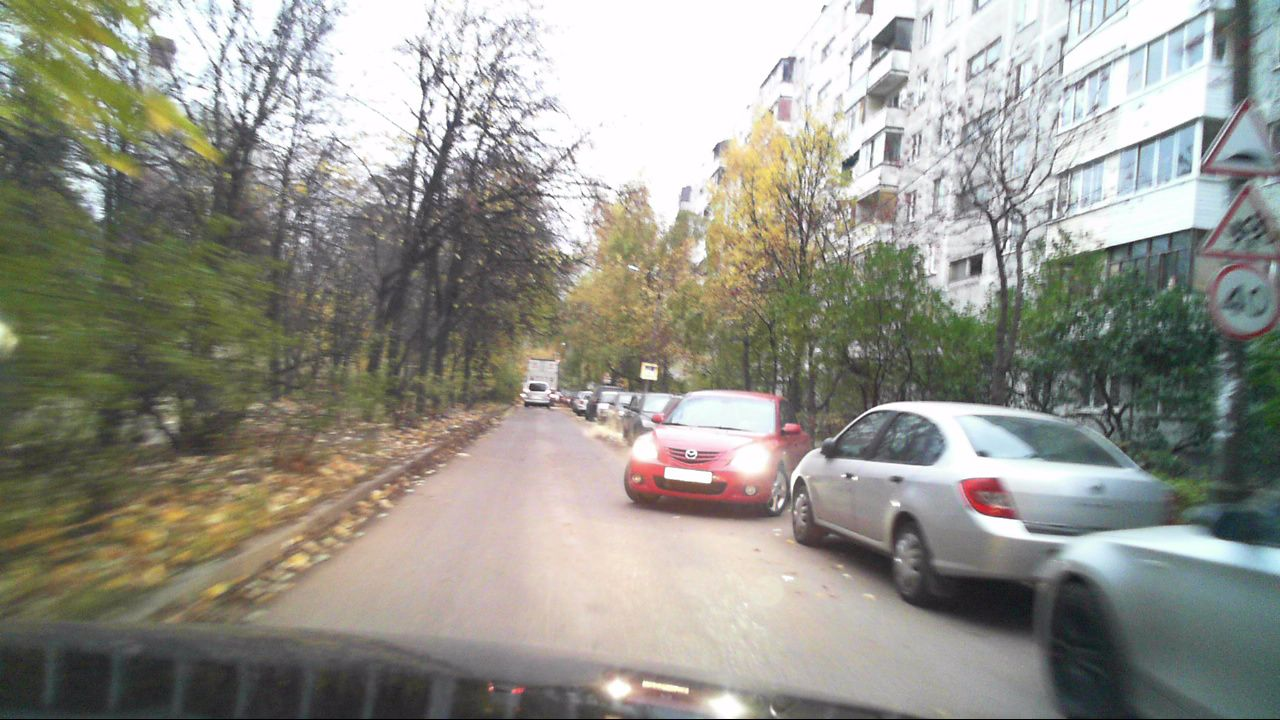speed_warning_40: (1208, 261, 1276, 340)
